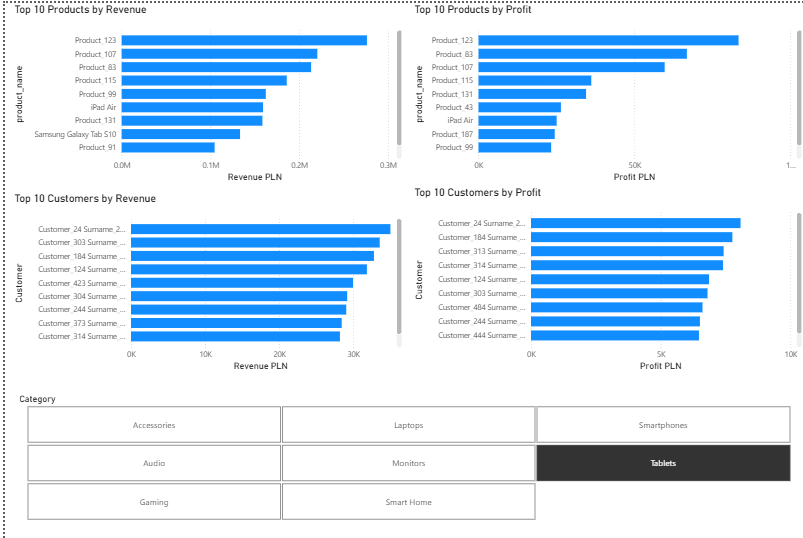

Layout of this report page (visuals, bound fields, positions):
{"tool":"powerbi","page":{"name":"Product & Customer Analysis","canvas":[1280,1300],"ordinal":1},"visuals":[{"type":"clusteredBarChart","title":"Top 10 Products by Revenue","fields":{"Category":["sales_details.product_name"],"Y":["sales_details.TOTAL REVENUE"]},"box":[10,0,630,291.7],"z":0},{"type":"clusteredBarChart","title":"Top 10 Products by Profit","fields":{"Category":["sales_details.product_name"],"Y":["sales_details.TOTAL PROFIT"]},"box":[650,0,630,291.7],"z":1000},{"type":"clusteredBarChart","title":"Top 10 Customers by Revenue","fields":{"Y":["sales_details.TOTAL REVENUE"],"Category":["sales_details.Customer"]},"box":[10,302,630,292],"z":2000},{"type":"clusteredBarChart","title":"Top 10 Customers by Profit","fields":{"Y":["sales_details.TOTAL PROFIT"],"Category":["sales_details.Customer"]},"box":[650,291.7,630,301.7],"z":3000},{"type":"slicer","title":"Category","fields":{"Values":["sales_details.category_name"]},"box":[10,620,1270,213.3],"z":4000},{"type":"clusteredBarChart","title":"Revenue by Category","fields":{"Category":["sales_details.category_name"],"Y":["sales_details.TOTAL REVENUE"]},"box":[10,866.7,640,338.3],"z":5000},{"type":"clusteredBarChart","title":"Profit by Category","fields":{"Category":["sales_details.category_name"],"Y":["sales_details.TOTAL PROFIT"]},"box":[640,855,640,350],"z":6000}]}

Visuals, with their boxes on the page's 1280x1300 design canvas (x1, y1, x2, y2). These are canvas units, not pixel positions in the 803x538 screenshot, which may show the page scaled, cropped or inside an application window:
"Top 10 Products by Revenue" clusteredBarChart: region(10, 0, 640, 292)
"Top 10 Products by Profit" clusteredBarChart: region(650, 0, 1280, 292)
"Top 10 Customers by Revenue" clusteredBarChart: region(10, 302, 640, 594)
"Top 10 Customers by Profit" clusteredBarChart: region(650, 292, 1280, 593)
"Category" slicer: region(10, 620, 1280, 833)
"Revenue by Category" clusteredBarChart: region(10, 867, 650, 1205)
"Profit by Category" clusteredBarChart: region(640, 855, 1280, 1205)
